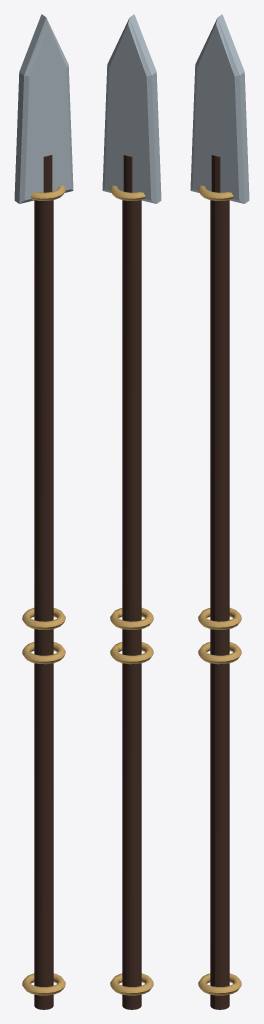
The model's file is spear.glb.
The picture shows the model from 3 angles, left to right: view 1: azimuth 30°, elevation 25°; view 2: azimuth 150°, elevation 25°; view 3: azimuth 330°, elevation 25°; orthographic projection.
Parts seen in each view (by area): view 1: spear_wood, spear_metal, spear_gold; view 2: spear_wood, spear_metal, spear_gold; view 3: spear_wood, spear_metal, spear_gold.
Boxes of the visible parts, x1,y1,x2,y2 form: spear_wood: [34, 155, 53, 1009]; spear_metal: [14, 14, 73, 203]; spear_gold: [22, 185, 65, 995]; spear_wood: [122, 155, 141, 1009]; spear_metal: [102, 14, 161, 203]; spear_gold: [110, 185, 153, 995]; spear_wood: [210, 155, 229, 1009]; spear_metal: [190, 14, 249, 203]; spear_gold: [198, 185, 241, 995].
Bounding box in the file's own units: 0.1163 × 2.03 × 0.082.
